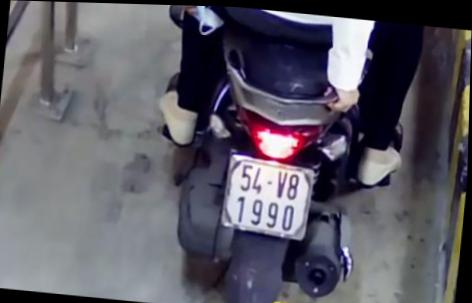LP: (217, 148, 320, 241)
